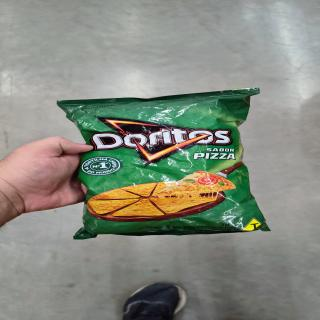food-box: (61, 79, 264, 247)
